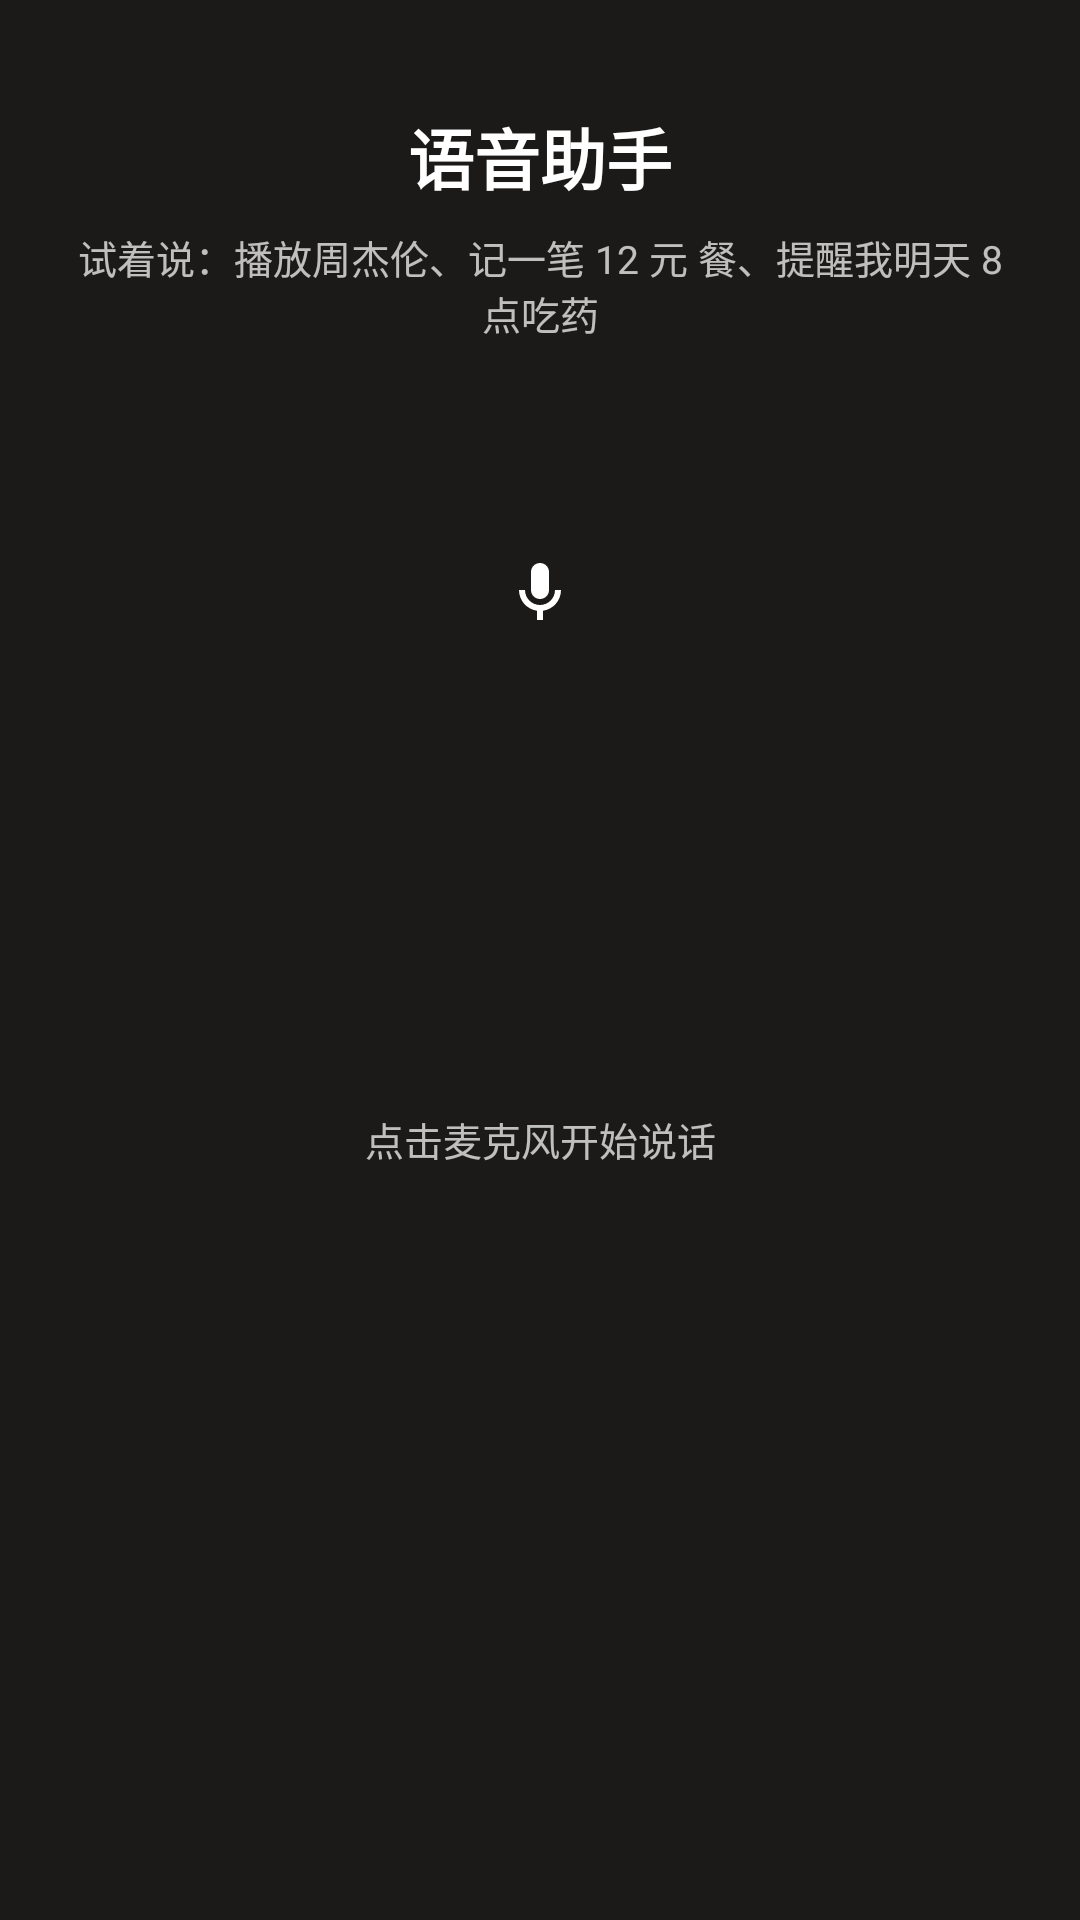

Icons on this 1080 × 1920 Android screen, each with its box as (x1, y1, x2, y2):
开始说话: (519, 563, 561, 620)
